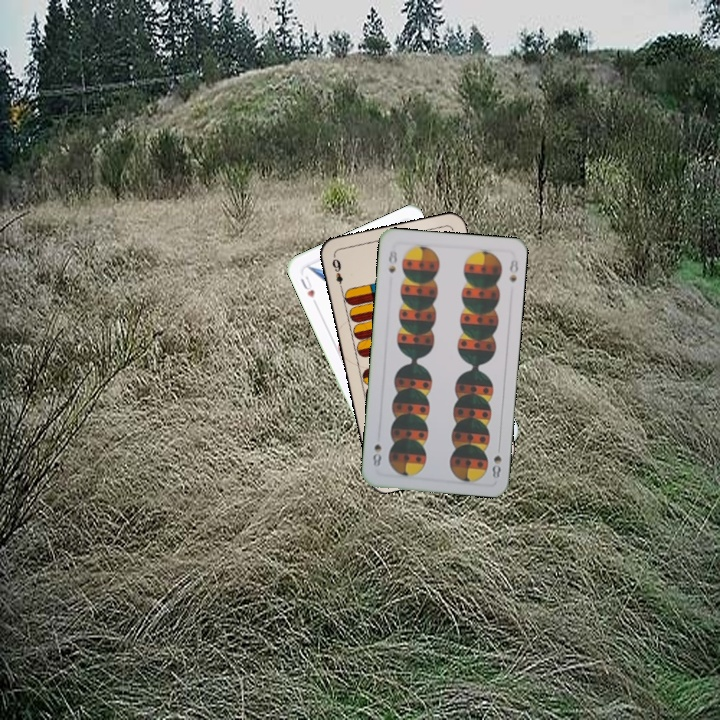E9: (328, 255, 346, 293)
HU: (296, 272, 317, 301)
S8: (488, 441, 504, 481), (384, 246, 400, 276)
